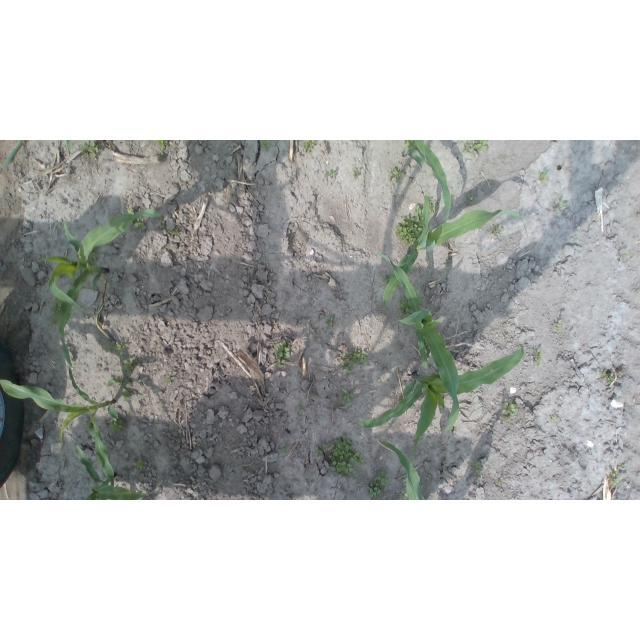Maize: (35, 208, 163, 368), (354, 347, 530, 463), (381, 196, 528, 316), (0, 365, 130, 487), (378, 253, 460, 439), (74, 444, 164, 500), (402, 140, 453, 220), (377, 439, 435, 500), (1, 141, 80, 172)
Weeds: (328, 434, 363, 475), (397, 206, 426, 245), (340, 349, 368, 376), (108, 376, 132, 401), (369, 471, 391, 497), (462, 140, 488, 157), (274, 339, 291, 359), (81, 140, 99, 158), (108, 418, 125, 435), (504, 402, 518, 422), (399, 298, 414, 314), (389, 168, 406, 182), (426, 198, 438, 214), (316, 444, 328, 460), (340, 389, 353, 403), (134, 460, 149, 472), (620, 247, 631, 263), (532, 347, 542, 364), (304, 140, 318, 152), (601, 372, 616, 383), (472, 460, 484, 473), (610, 474, 620, 489), (324, 316, 336, 328), (123, 358, 134, 371), (493, 225, 506, 236), (116, 344, 127, 356), (556, 201, 569, 211), (540, 169, 551, 180), (277, 358, 287, 369), (155, 140, 166, 149), (326, 170, 338, 178), (135, 220, 145, 229), (261, 141, 271, 150), (352, 168, 360, 178), (383, 275, 391, 285), (166, 376, 174, 385), (171, 228, 180, 236), (557, 320, 563, 331), (467, 197, 474, 204)
